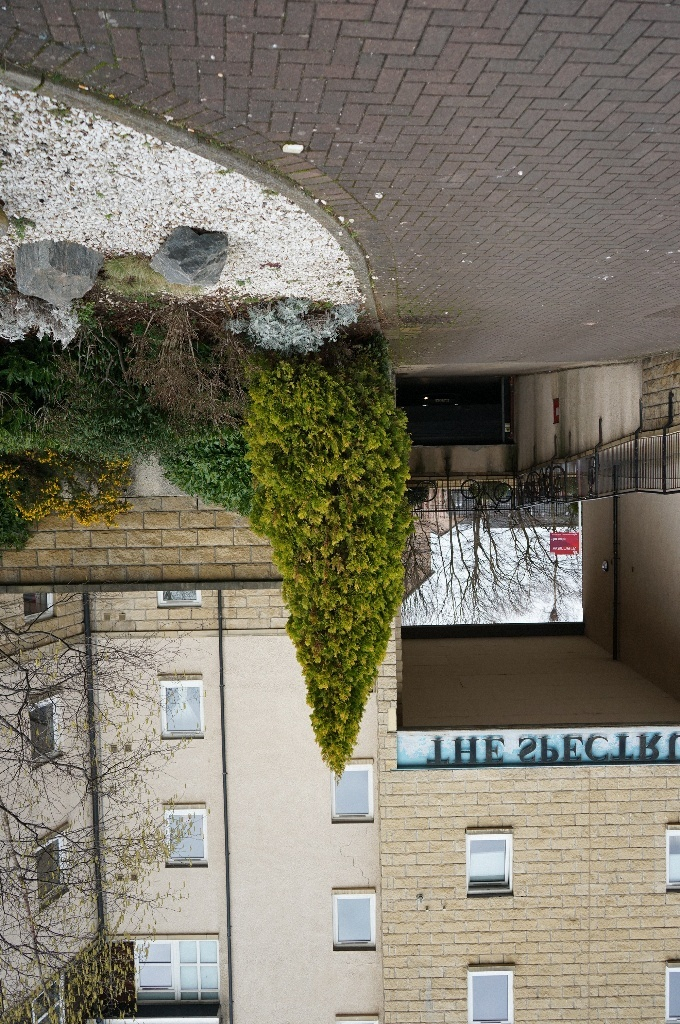Tree: (232, 317, 445, 796), (4, 592, 215, 1020)
